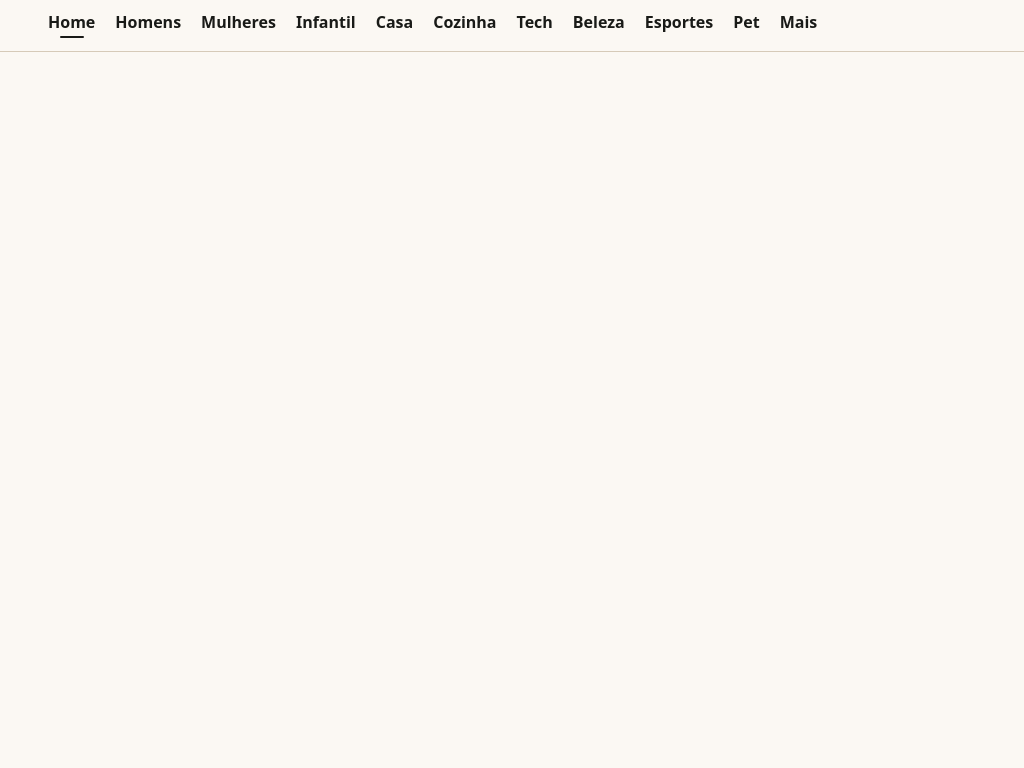
Test: department sheet geral › opens only the leaves of the clicked desktop department
The image size is (1024, 768).
Click the button "Homens" at [148, 26], box [115, 14, 181, 38]
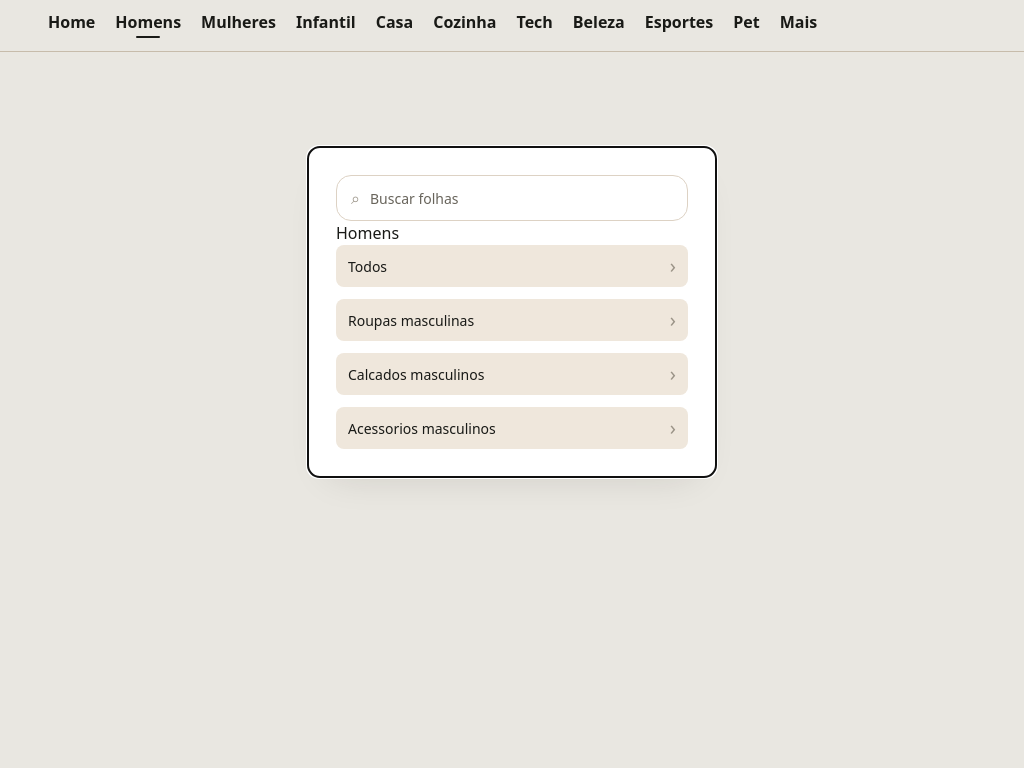
Now the heading "Homens" is shown, box [336, 222, 399, 244]
Now the text "Todos" is shown, box [348, 256, 387, 276]
